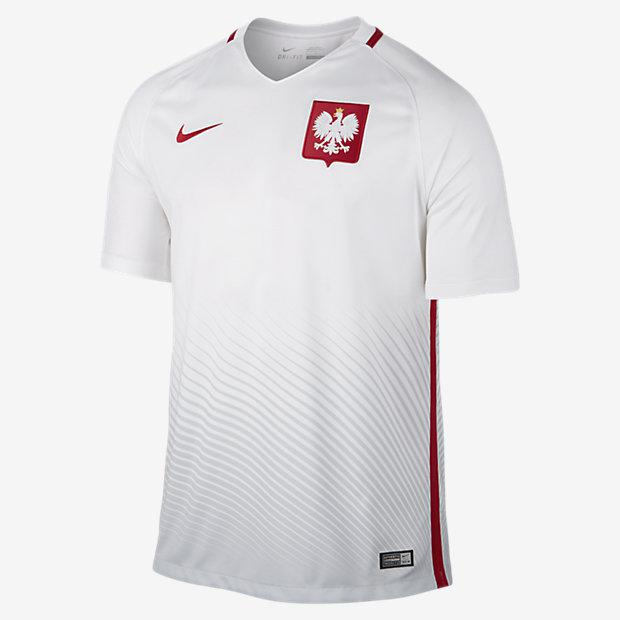teeshirt: (86, 16, 530, 601)
